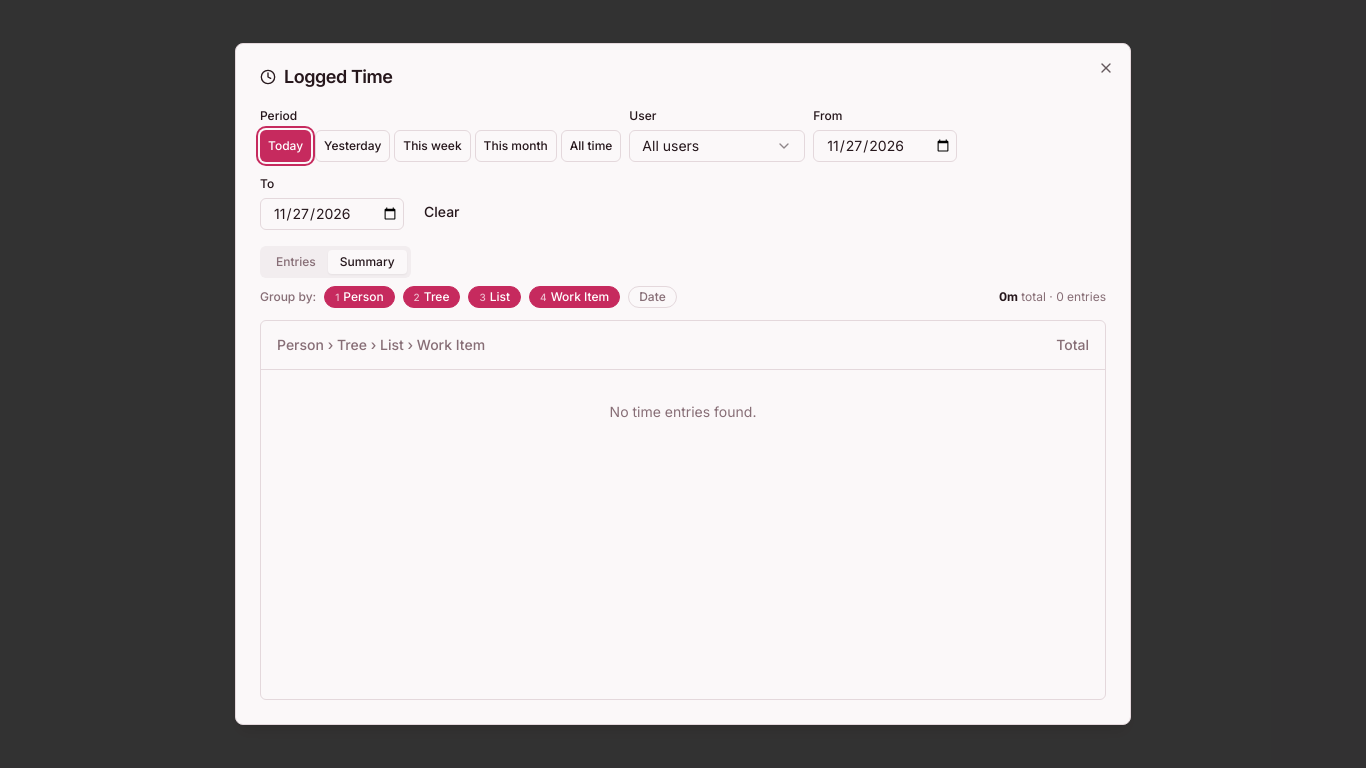
the period buttons › show which period is selected, and follow a click
Step 1. Click the button "Yesterday" → x=353, y=146, box 315,130 -> 390,162
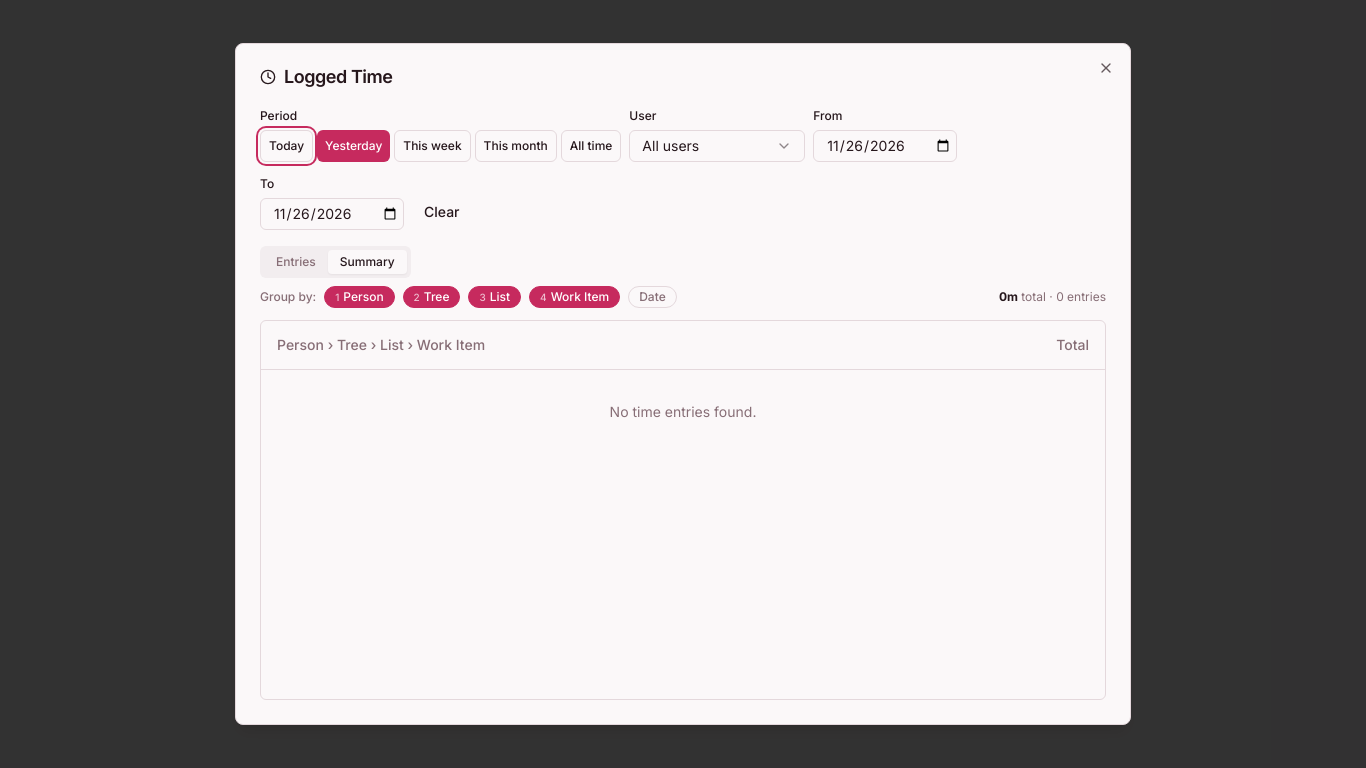
Expected: the date field labelled "From" holds "2026-11-26", 813,130 -> 957,162
